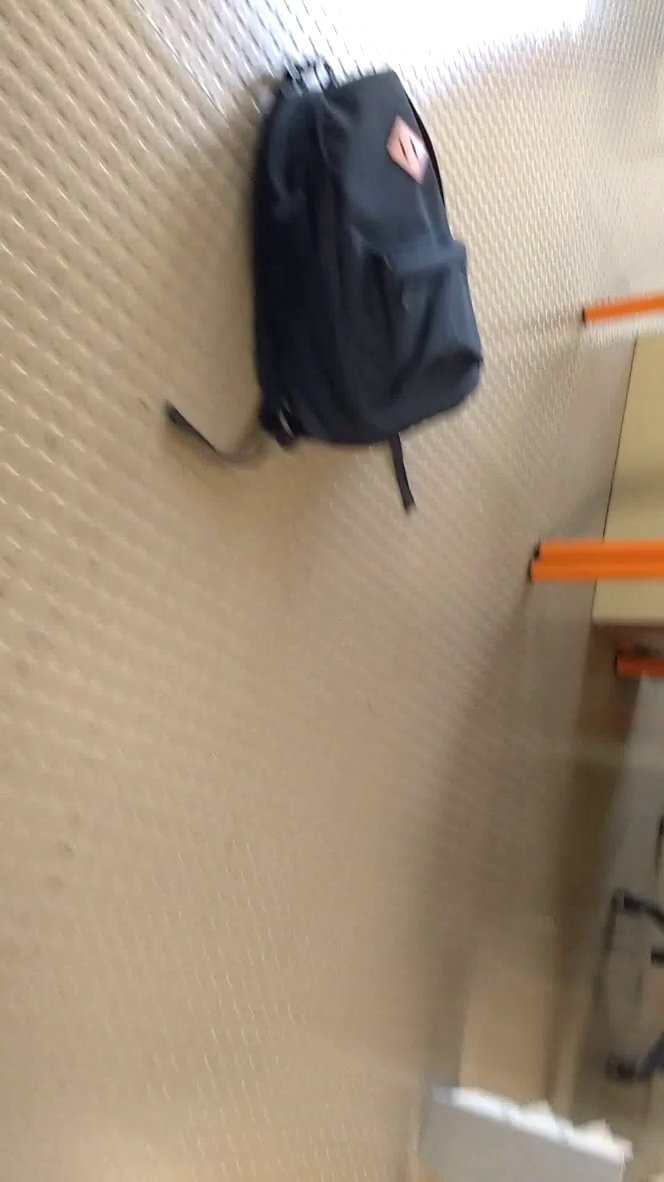bag: (162, 42, 496, 551)
